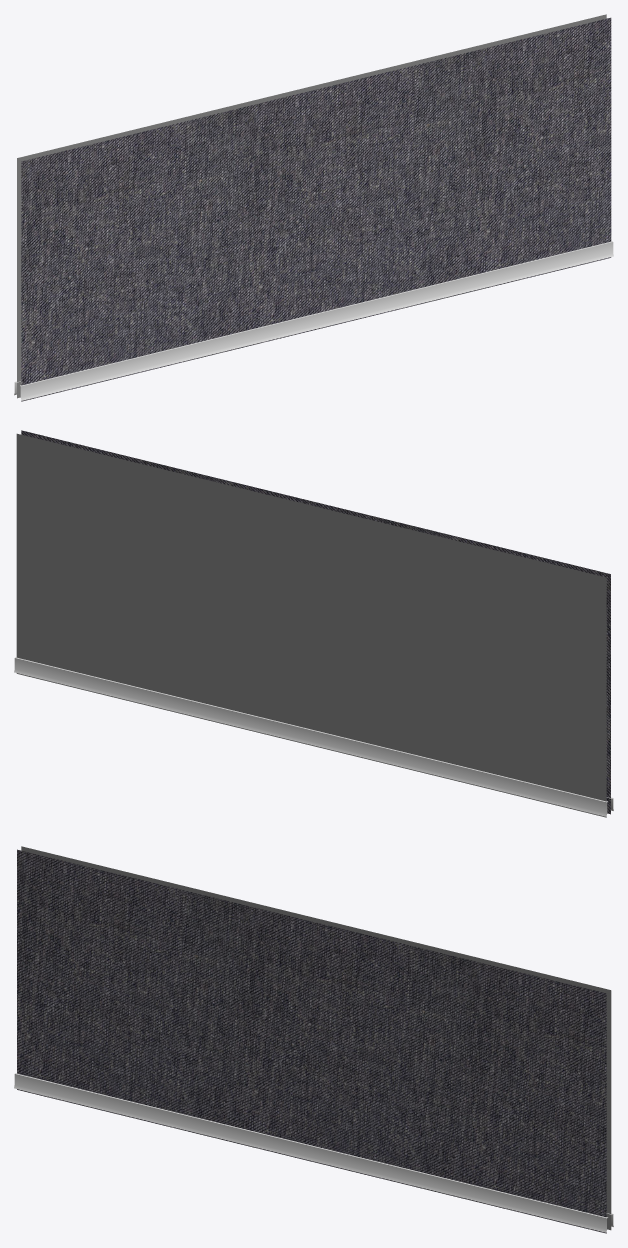
The model's file is FLAT_wall_07.FBX.
The picture shows the model from 3 angles, top to bottom: view 1: azimuth 30°, elevation 25°; view 2: azimuth 150°, elevation 25°; view 3: azimuth 330°, elevation 25°; orthographic projection.
Visible parts, largest first — view 1: FLAT_wall_07, FLAT_wall_07_plinthe01; view 2: FLAT_wall_07, FLAT_wall_07_plinthe01; view 3: FLAT_wall_07, FLAT_wall_07_plinthe01.
Boxes of the visible parts, left/top/right/bottom form: FLAT_wall_07: left=17, top=14, right=611, bottom=401; FLAT_wall_07_plinthe01: left=14, top=241, right=613, bottom=400; FLAT_wall_07: left=16, top=430, right=610, bottom=817; FLAT_wall_07_plinthe01: left=14, top=657, right=613, bottom=816; FLAT_wall_07: left=17, top=846, right=611, bottom=1233; FLAT_wall_07_plinthe01: left=14, top=1073, right=613, bottom=1232.
Bounding box in the file's own units: 10.86 × 4.21 × 0.244.
2 materials, 1 textured.
